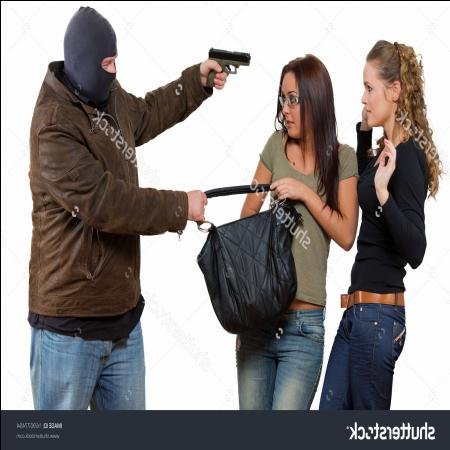Pistol: (204, 45, 252, 86)
